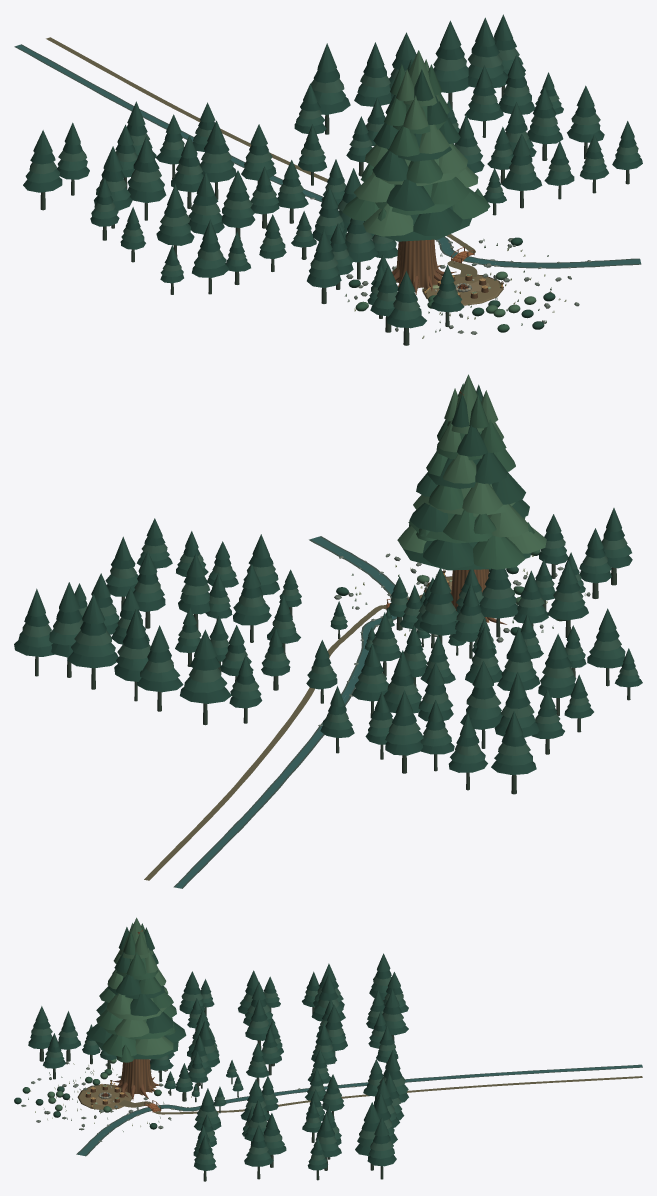
Rendered from pine-camp.glb.
The picture shows the model from 3 angles, top to bottom: view 1: azimuth 30°, elevation 25°; view 2: azimuth 150°, elevation 25°; view 3: azimuth 270°, elevation 25°; orthographic projection. The views are drawn at different scales.
Parts seen in each view (by area): view 1: forest-294c40, forest-214238, forest-345345, forest-244638, forest-41634a, forest-315540, forest-38493c, forest-355e5b, forest-ffffff, forest-645d44, forest-3e5048, forest-716447 (+1 smaller); view 2: forest-294c40, forest-214238, forest-345345, forest-244638, forest-41634a, forest-315540, forest-38493c, forest-355e5b, forest-645d44, forest-3e5048; view 3: forest-294c40, forest-214238, forest-345345, forest-41634a, forest-244638, forest-315540, forest-355e5b, forest-645d44, forest-3e5048, forest-38493c, forest-ffffff, forest-716447 (+1 smaller).
Boxes of the visible parts, <box> form: forest-294c40: <box>25,14,640,320</box>; forest-214238: <box>23,38,642,328</box>; forest-345345: <box>29,48,638,311</box>; forest-244638: <box>348,59,555,329</box>; forest-41634a: <box>353,50,536,317</box>; forest-315540: <box>342,64,509,332</box>; forest-38493c: <box>40,85,629,345</box>; forest-355e5b: <box>15,44,640,267</box>; forest-ffffff: <box>395,239,442,289</box>; forest-645d44: <box>46,37,477,276</box>; forest-3e5048: <box>14,44,641,268</box>; forest-716447: <box>422,274,503,305</box>; forest-294c40: <box>18,508,639,765</box>; forest-214238: <box>14,529,642,775</box>; forest-345345: <box>22,537,637,755</box>; forest-244638: <box>336,384,531,635</box>; forest-41634a: <box>397,374,563,621</box>; forest-315540: <box>408,383,565,620</box>; forest-38493c: <box>35,564,630,794</box>; forest-355e5b: <box>175,536,396,888</box>; forest-645d44: <box>144,594,422,880</box>; forest-3e5048: <box>173,536,396,888</box>; forest-294c40: <box>30,953,408,1165</box>; forest-214238: <box>28,970,408,1170</box>; forest-345345: <box>31,976,405,1160</box>; forest-41634a: <box>47,917,173,1112</box>; forest-244638: <box>14,927,186,1129</box>; forest-315540: <box>22,923,176,1096</box>; forest-355e5b: <box>78,1065,642,1155</box>; forest-645d44: <box>118,1076,642,1114</box>; forest-3e5048: <box>76,1064,642,1156</box>; forest-38493c: <box>39,1000,394,1181</box>; forest-ffffff: <box>119,930,156,1095</box>; forest-716447: <box>77,1084,132,1109</box>.
Size of what is drawn, in the model's own units: 70.93 by 31.53 by 104.
